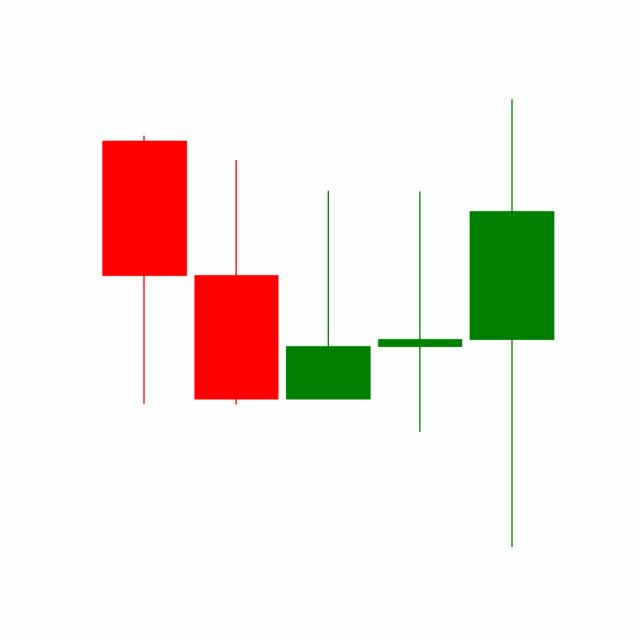Spinning Top: (373, 188, 467, 435)
